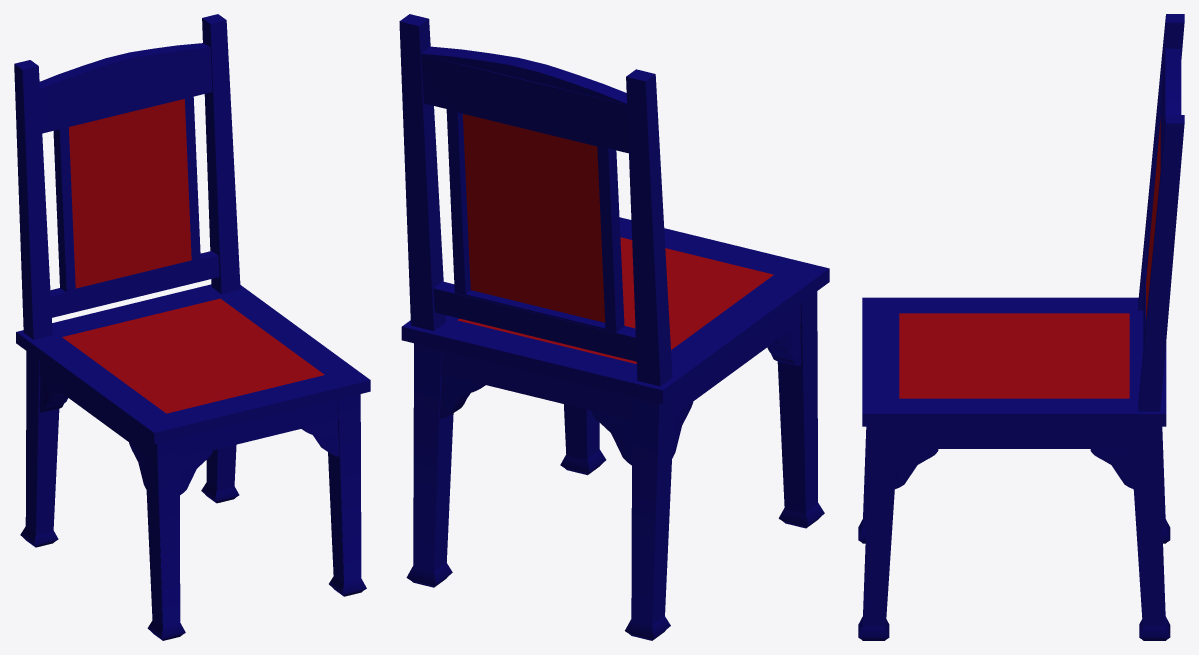
File: Chair_01_LOD.FBX
3 views of the same model, side by side, from view 1: azimuth 30°, elevation 25°; view 2: azimuth 150°, elevation 25°; view 3: azimuth 270°, elevation 25° (orthographic). The views are drawn at different scales.
Parts seen in each view (by area): view 1: Weave_Back, Sit_Wood02, Weave_Sit, Back_Wood02, Back_Wood01, Back_Wood05, Foot011, Back_Wood03, Foot04, Foot01, Back_Wood04, Sit_Wood03 (+7 smaller); view 2: Weave_Back, Sit_Wood02, Back_Wood02, Back_Wood011, Back_Wood05, Back_Wood03, Weave_Sit, Foot009, Foot02, Foot03, Back_Wood04, Sit_Wood05 (+11 smaller); view 3: Weave_Sit, Sit_Wood02, Back_Wood05, Sit_Wood01, Foot010, Foot012, Back_Wood02, Back_Wood01, Details04, Details03, Weave_Back, Foot02 (+1 smaller).
Boxes of the visible parts, <box> form: Weave_Back: <box>69,99,191,288</box>; Sit_Wood02: <box>16,284,370,444</box>; Weave_Sit: <box>62,298,324,413</box>; Back_Wood02: <box>14,60,52,339</box>; Back_Wood01: <box>39,43,212,133</box>; Back_Wood05: <box>202,14,240,294</box>; Foot011: <box>26,351,59,535</box>; Back_Wood03: <box>53,96,200,292</box>; Foot04: <box>329,394,366,596</box>; Foot01: <box>147,438,185,640</box>; Back_Wood04: <box>50,251,219,317</box>; Sit_Wood03: <box>179,399,338,458</box>; Weave_Back: <box>463,114,605,322</box>; Sit_Wood02: <box>401,217,829,403</box>; Back_Wood02: <box>626,69,672,386</box>; Back_Wood011: <box>421,55,628,153</box>; Back_Wood05: <box>399,14,445,330</box>; Back_Wood03: <box>446,109,624,332</box>; Weave_Sit: <box>457,237,773,363</box>; Foot009: <box>777,291,817,513</box>; Foot02: <box>406,343,452,587</box>; Foot03: <box>625,396,670,640</box>; Back_Wood04: <box>433,281,636,361</box>; Sit_Wood05: <box>441,350,632,420</box>; Weave_Sit: <box>899,313,1129,398</box>; Sit_Wood02: <box>862,297,1166,426</box>; Back_Wood05: <box>1138,115,1184,411</box>; Sit_Wood01: <box>897,426,1130,448</box>; Foot010: <box>1129,426,1164,626</box>; Foot012: <box>863,426,898,626</box>; Back_Wood02: <box>1138,14,1184,310</box>; Back_Wood01: <box>1160,48,1181,168</box>; Details04: <box>1090,449,1133,488</box>; Details03: <box>895,449,938,488</box>; Weave_Back: <box>1146,119,1160,320</box>; Foot02: <box>1139,427,1170,640</box>.
Size of the model in its own units: 0.4783 by 0.994 by 0.5664.
